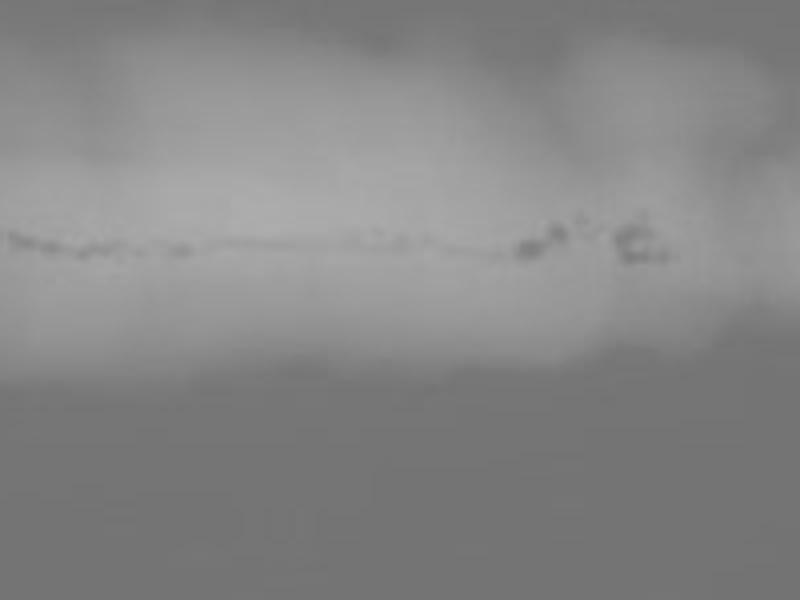defect: (615, 224, 666, 267), (568, 209, 600, 239), (5, 225, 40, 251), (79, 240, 120, 262), (513, 237, 546, 262), (540, 219, 567, 244), (165, 240, 195, 261), (40, 235, 70, 254), (385, 232, 411, 250), (368, 228, 385, 251), (131, 243, 151, 261), (146, 228, 165, 243)
